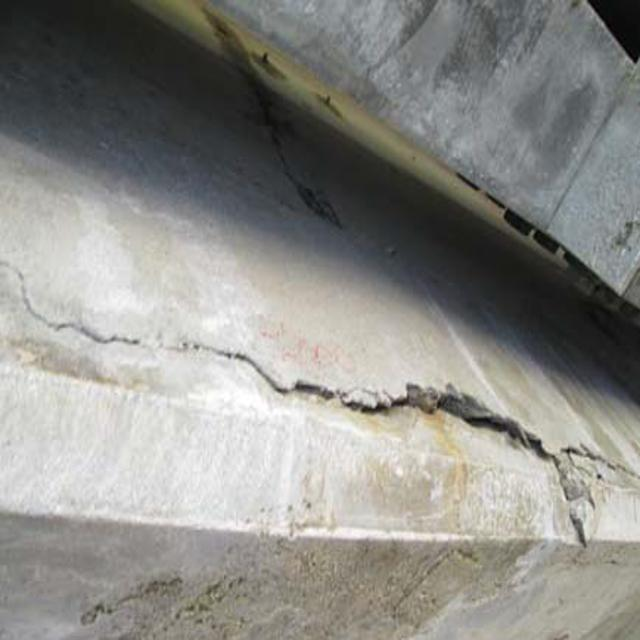spalling: (11, 254, 626, 547)
